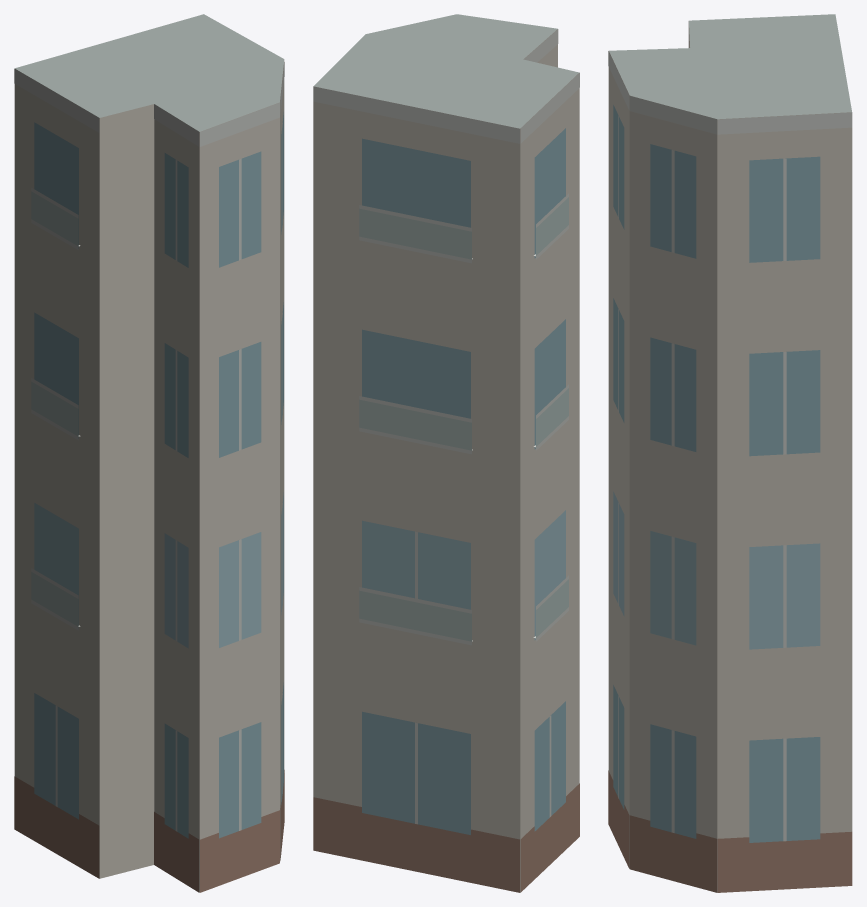
File: survey-upis-32986666.glb
The picture shows the model from 3 angles, left to right: view 1: azimuth 30°, elevation 25°; view 2: azimuth 150°, elevation 25°; view 3: azimuth 270°, elevation 25°; orthographic projection.
Visible parts, largest first — view 1: survey-upis-32986666.tmp; view 2: survey-upis-32986666.tmp; view 3: survey-upis-32986666.tmp.
Part boxes in pixels (<box>): survey-upis-32986666.tmp: <box>14,14,284,892</box>; survey-upis-32986666.tmp: <box>313,14,579,892</box>; survey-upis-32986666.tmp: <box>608,14,852,892</box>.
Size of the model in its own units: 3.57 by 12.2 by 3.49.
